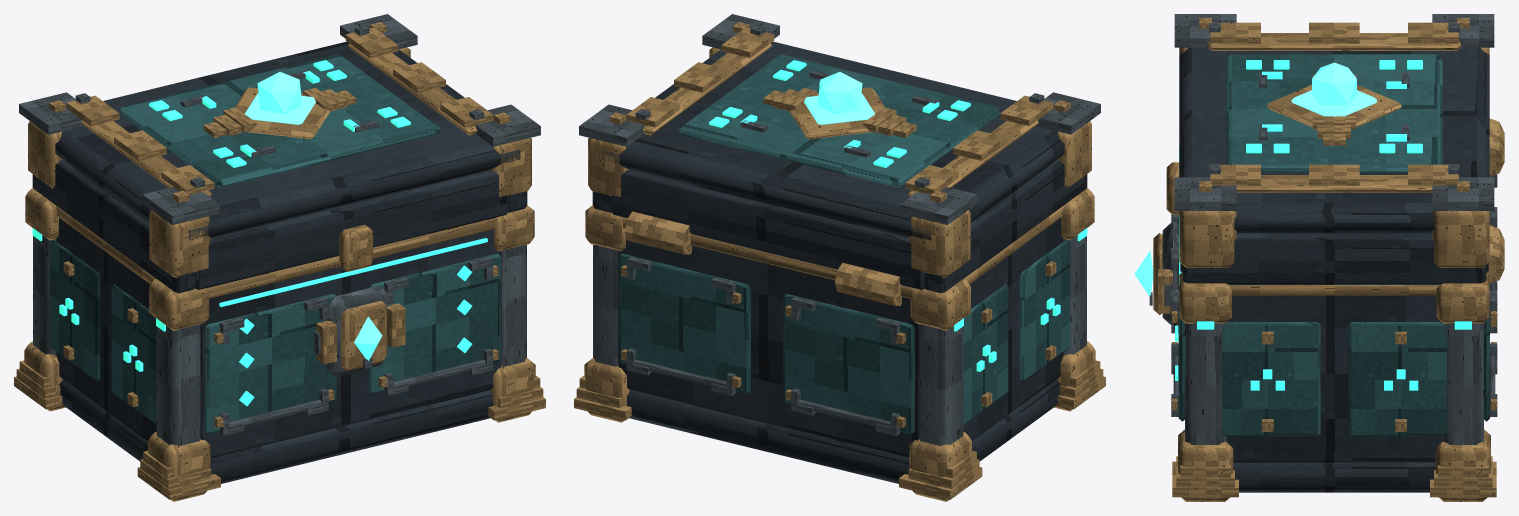
File: ender-vault-v2.glb
3 renders of one model, left to right at view 1: azimuth 30°, elevation 25°; view 2: azimuth 150°, elevation 25°; view 3: azimuth 270°, elevation 25°, orthographic. The views are drawn at different scales.
Visible parts, largest first — view 1: Body.Geometry, Lid.Geometry; view 2: Body.Geometry, Lid.Geometry; view 3: Lid.Geometry, Body.Geometry.
Part boxes in pixels (left/top/right/bottom): Body.Geometry: left=14, top=188, right=545, bottom=501; Lid.Geometry: left=19, top=14, right=540, bottom=293; Body.Geometry: left=574, top=188, right=1105, bottom=501; Lid.Geometry: left=579, top=14, right=1100, bottom=293; Lid.Geometry: left=1166, top=14, right=1494, bottom=284; Body.Geometry: left=1134, top=118, right=1504, bottom=501.
Bounding box in the file's own units: 1.97 × 1.68 × 1.61.
Materials: 7 (5 with a texture image).
